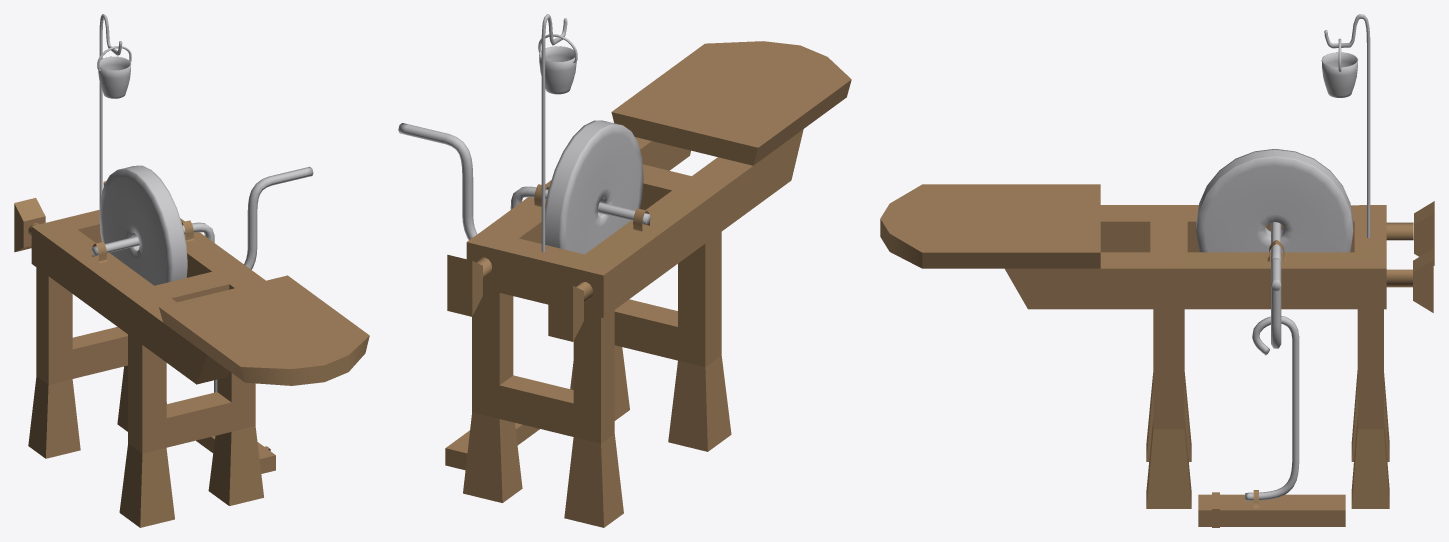
File: grindstone.glb
3 views of the same model, side by side, from view 1: azimuth 30°, elevation 25°; view 2: azimuth 150°, elevation 25°; view 3: azimuth 270°, elevation 25° (orthographic). The views are drawn at different scales.
Visible parts, largest first — view 1: Cube.018; view 2: Cube.018; view 3: Cube.018.
Part boxes in pixels (x1,y1,x2,y2): Cube.018: (14, 14, 369, 527); Cube.018: (398, 14, 851, 527); Cube.018: (880, 14, 1434, 527).
Size of the model in its own units: 0.8917 by 1.56 by 1.69.
